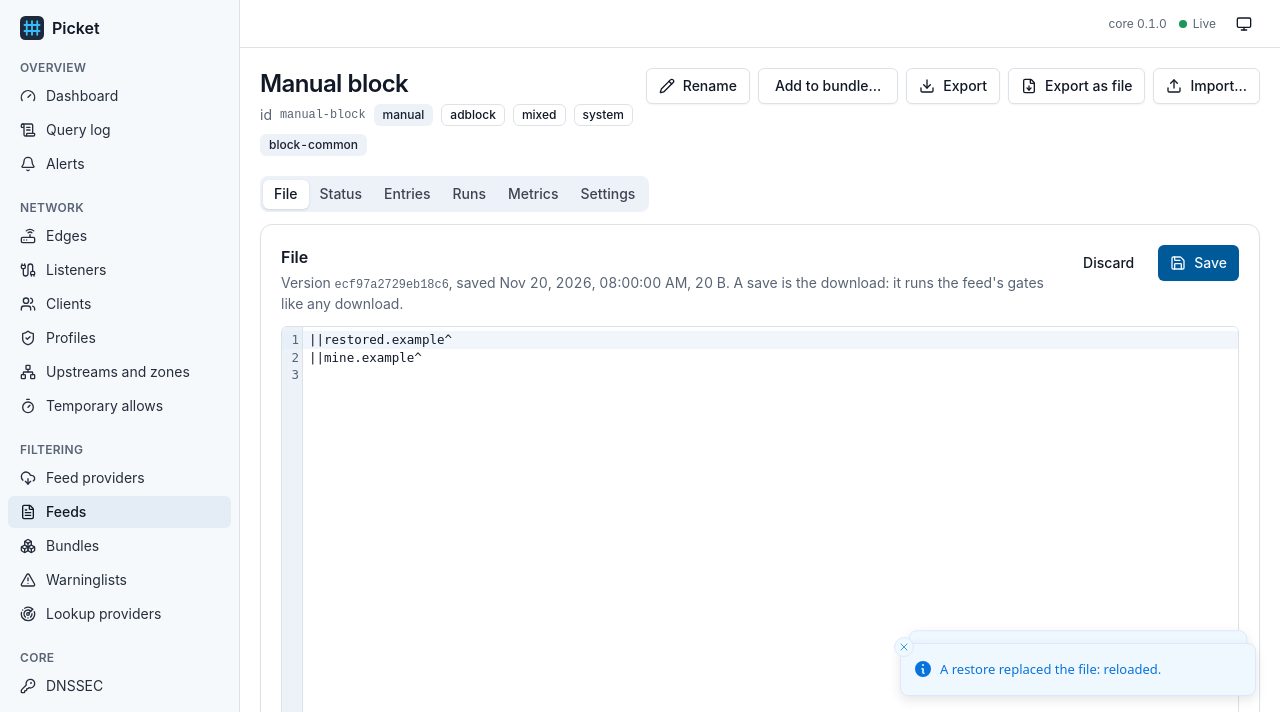
Scenario: U3: a restore resets what the manual editor knows of its file's saves (Opus UE2) › another tab's restore of an older export: the open clean editor reads the file once and takes it
Click the button "Save".
click(1199, 263)  # box top-left (1158, 245), bottom-right (1239, 281)
(page scrolled)
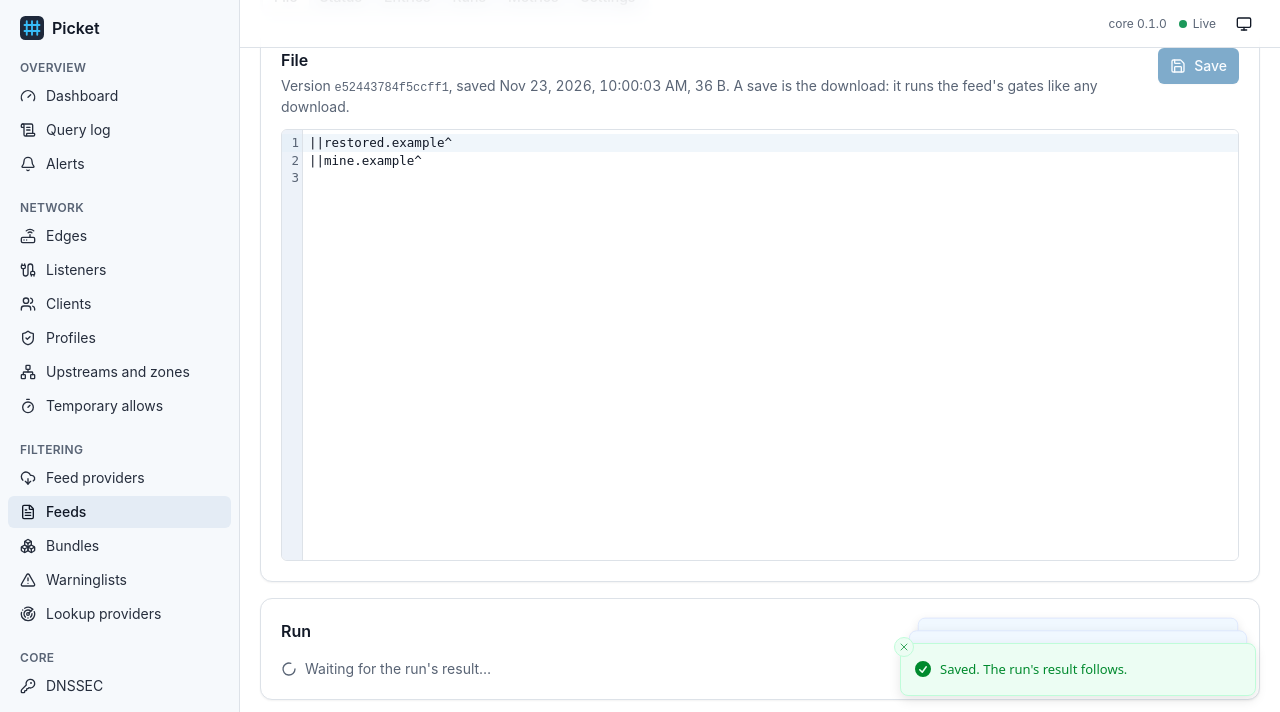
Now the text "Waiting for the run's result…" is shown, box top-left (281, 660), bottom-right (491, 677)
